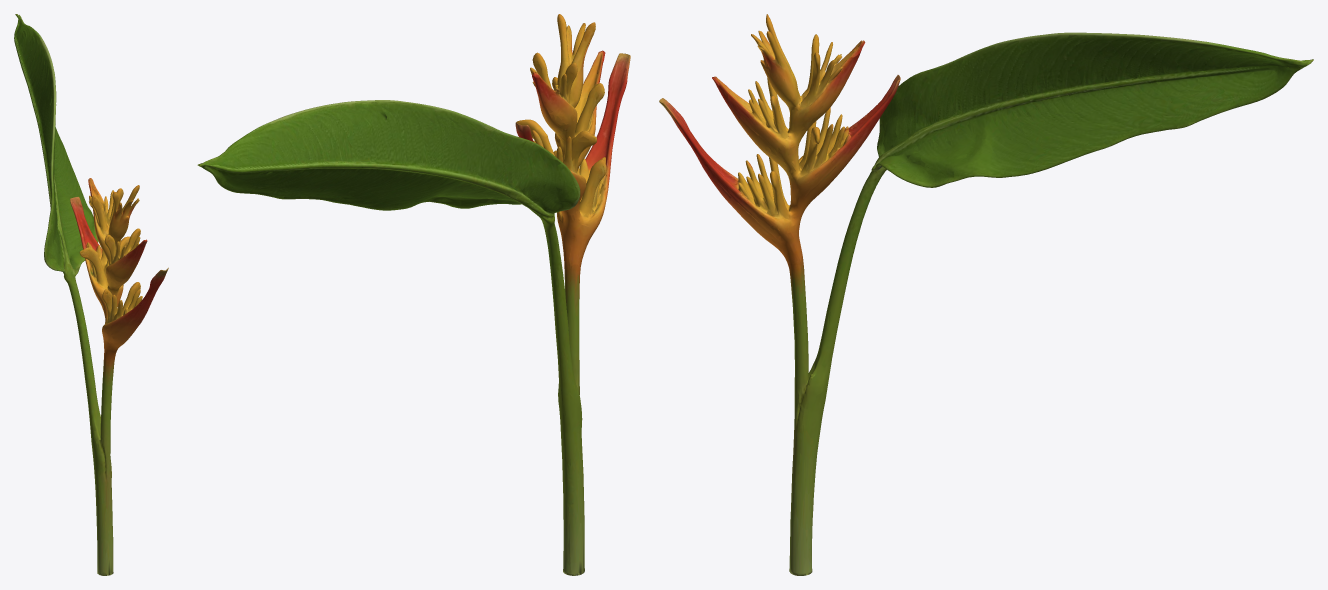
The model's file is planta_hospedera_caligo.fbx.
The picture shows the model from 3 angles, left to right: view 1: azimuth 30°, elevation 25°; view 2: azimuth 150°, elevation 25°; view 3: azimuth 270°, elevation 25°; orthographic projection. The views are drawn at different scales.
Visible parts, largest first — view 1: tripo_node_763bce15; view 2: tripo_node_763bce15; view 3: tripo_node_763bce15.
Boxes of the visible parts, x1=… form: tripo_node_763bce15: x1=14, y1=14, x2=168, y2=575; tripo_node_763bce15: x1=197, y1=14, x2=630, y2=575; tripo_node_763bce15: x1=659, y1=14, x2=1313, y2=575.
Bounding box in the file's own units: 3.22 × 10.01 × 10.17.
1 material, 1 textured.
